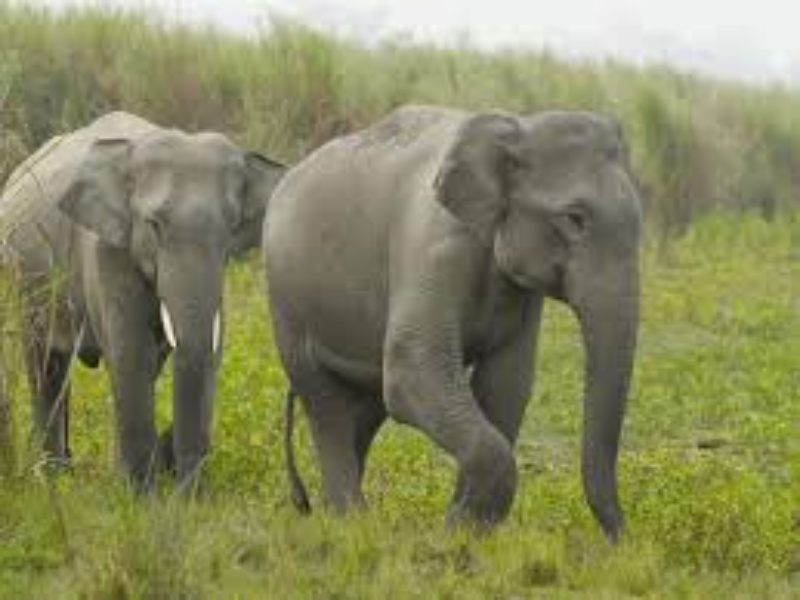elephant: (253, 100, 688, 537), (1, 71, 267, 511)
